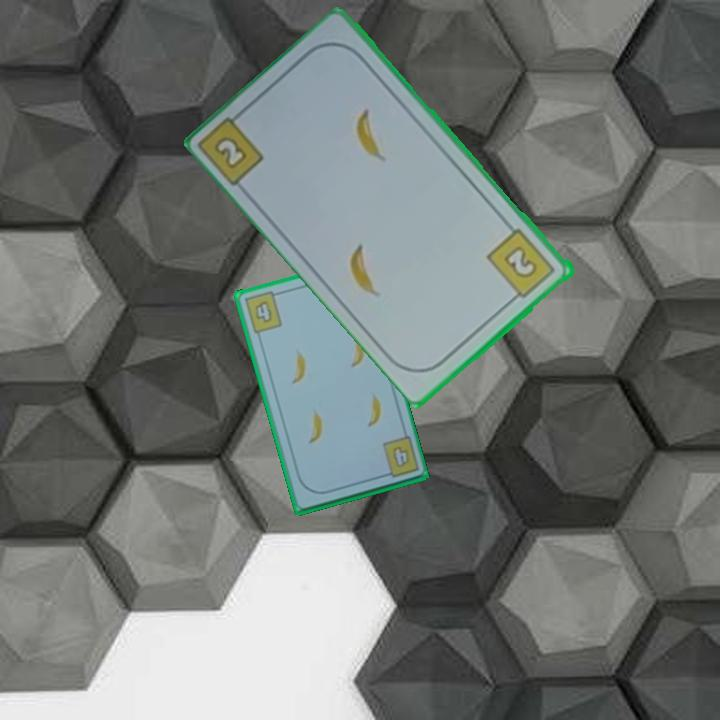2b: (198, 104, 268, 190), (484, 225, 559, 305)
4b: (377, 433, 422, 481), (241, 288, 285, 336)
